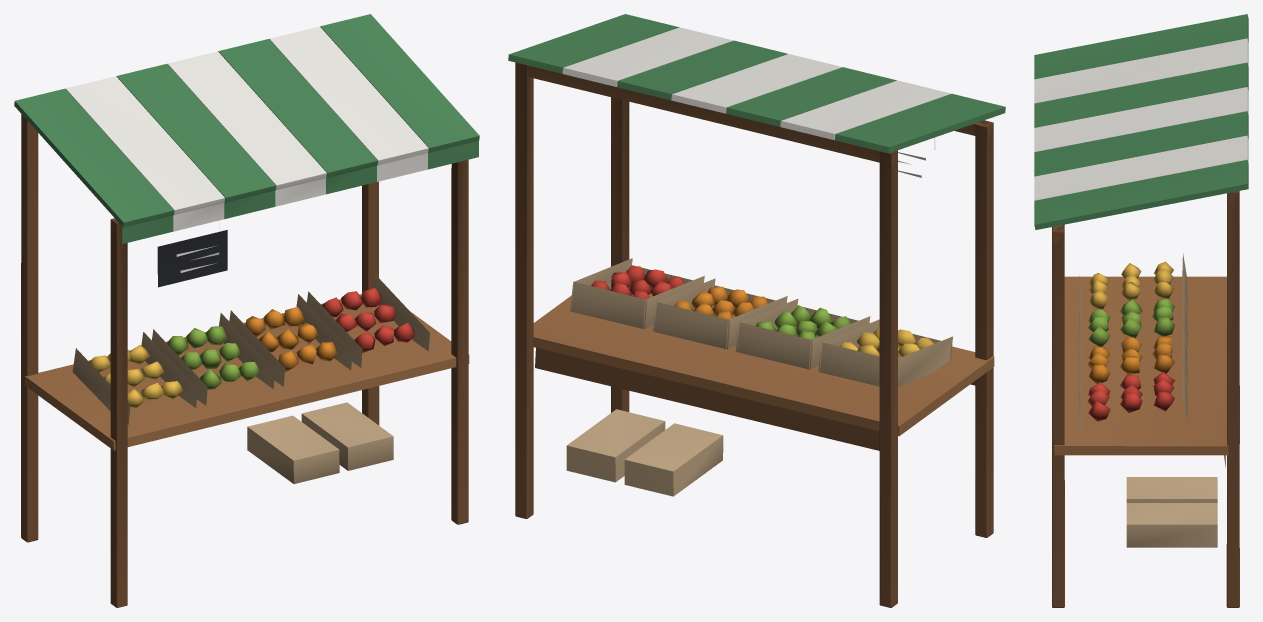
The model's file is marketStall.far.glb.
The picture shows the model from 3 angles, left to right: view 1: azimuth 30°, elevation 25°; view 2: azimuth 150°, elevation 25°; view 3: azimuth 270°, elevation 25°; orthographic projection. The views are drawn at different scales.
Visible parts, largest first — view 1: marketStall_far; view 2: marketStall_far; view 3: marketStall_far.
Boxes of the visible parts, left/top/right/bottom form: marketStall_far: left=14, top=14, right=479, bottom=607; marketStall_far: left=508, top=14, right=1005, bottom=607; marketStall_far: left=1034, top=14, right=1248, bottom=607.
Bounding box in the file's own units: 1.84 × 2.15 × 0.9811.
